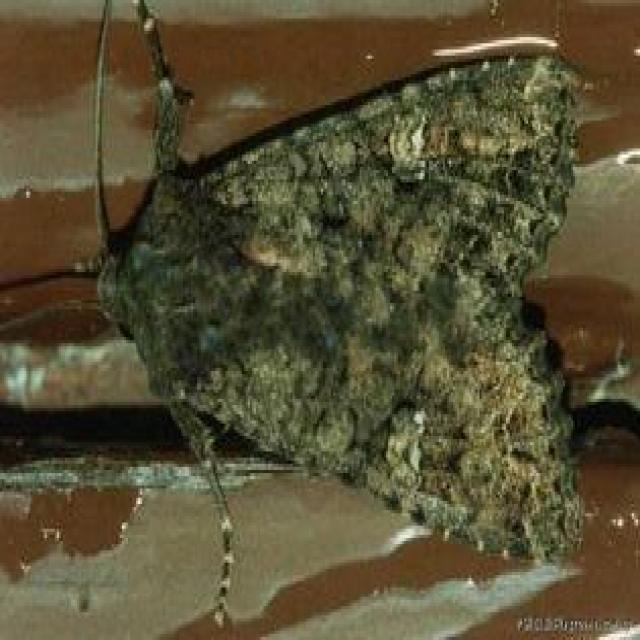armyworm: (66, 20, 611, 554)
